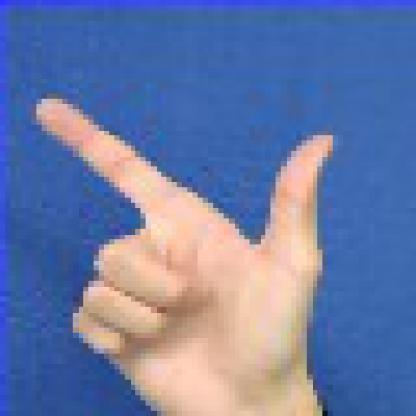seven: (24, 76, 375, 415)
